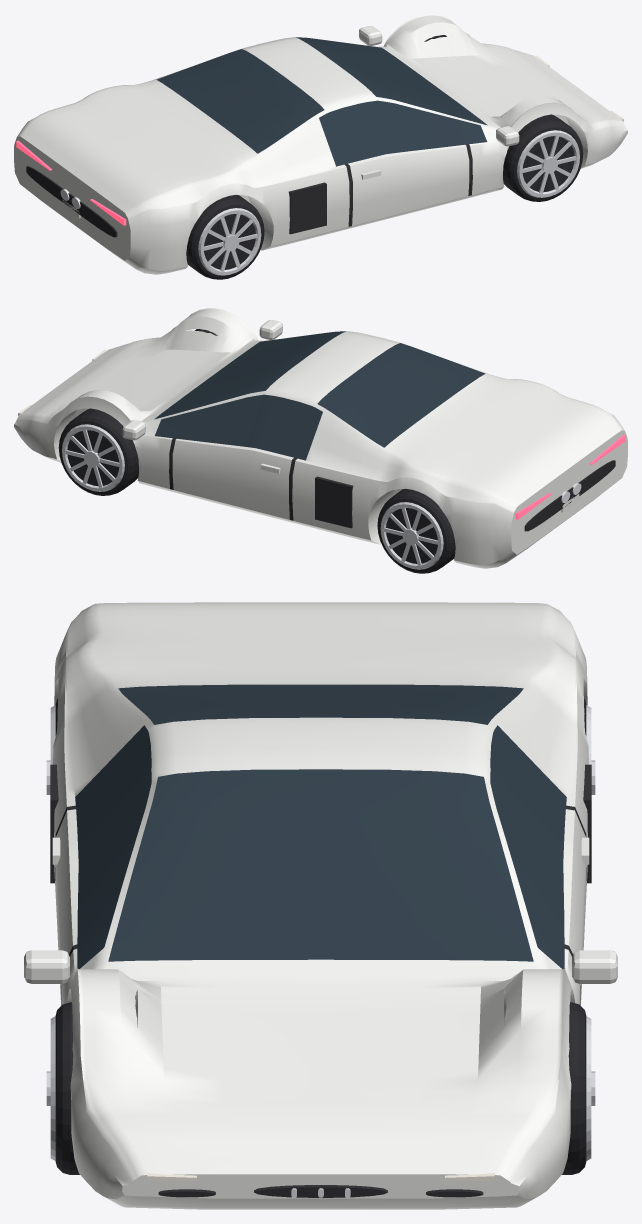
File: mazeratti_mc20.fbx
The picture shows the model from 3 angles, top to bottom: view 1: azimuth 30°, elevation 25°; view 2: azimuth 150°, elevation 25°; view 3: azimuth 270°, elevation 25°; orthographic projection. The views are drawn at different scales.
Visible parts, largest first — view 1: Body.019, Glass.019, Tire.019, Trim.019, Rim.019, TailLight.019; view 2: Body.019, Glass.019, Tire.019, Rim.019, Trim.019, TailLight.019; view 3: Body.019, Glass.019, Tire.019, Trim.019, Rim.019.
Boxes of the visible parts, x1,y1,x2,y2 form: Body.019: (14,14,627,274); Glass.019: (156,37,487,166); Tire.019: (186,35,583,279); Trim.019: (26,136,574,269); Rim.019: (198,130,579,275); TailLight.019: (16,140,126,225); Body.019: (14,308,627,568); Glass.019: (154,331,485,460); Tire.019: (58,329,455,573); Rim.019: (62,424,443,569); Trim.019: (67,430,615,562); TailLight.019: (515,434,625,519); Body.019: (24,602,617,1209); Glass.019: (75,684,566,969); Tire.019: (55,698,586,1174); Trim.019: (50,764,591,1197); Rim.019: (46,705,595,1160).
Bounding box in the file's own units: 1537 × 370 × 773.
